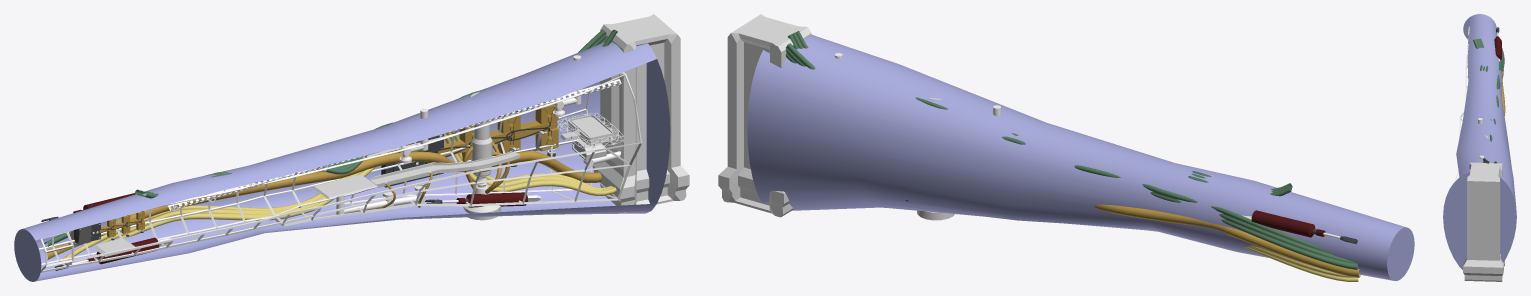
File: MSH_LVLArm_WBX.fbx
3 renders of one model, left to right at view 1: azimuth 30°, elevation 25°; view 2: azimuth 150°, elevation 25°; view 3: azimuth 270°, elevation 25°, orthographic. The views are drawn at different scales.
Parts seen in each view (by area): view 1: MSH_ArmSkinBG_WBX, MSH_ArmFrameBG_WBX, Elevator Support, Curve_Cable, Curve_Cable.001, MSH_SpineThingBG_WBX.001, MSH_Walkway, MSH_Pump, MSH_Hanger Strap_WBX.002, MSH_HingePiston_WBX.003|MSH_HingePiston_WBX|Dupli|, MSH_breadboard_WBX.001, Grate (+9 smaller); view 2: MSH_ArmSkinBG_WBX, Elevator Support, Curve_Cable.002, Curve_Cable.001, MSH_HingePiston_WBX.001|MSH_HingePiston_WBX|Dupli|, Curve_Cable, Curve_Cable.010; view 3: MSH_ArmSkinBG_WBX, Elevator Support, MSH_ArmFrameBG_WBX, Curve_Cable.002, MSH_HingePiston_WBX.001|MSH_HingePiston_WBX|Dupli|, Curve_Cable.010, Curve_Cable.001.
Part boxes in pixels (<box>): MSH_ArmSkinBG_WBX: <box>14,42,670,281</box>; MSH_ArmFrameBG_WBX: <box>39,72,641,272</box>; Elevator Support: <box>592,14,689,212</box>; Curve_Cable: <box>58,131,616,265</box>; Curve_Cable.001: <box>44,151,601,259</box>; MSH_SpineThingBG_WBX.001: <box>438,100,558,160</box>; MSH_Walkway: <box>370,150,520,187</box>; MSH_Pump: <box>463,92,500,220</box>; MSH_Hanger Strap_WBX.002: <box>168,79,622,210</box>; MSH_HingePiston_WBX.003|MSH_HingePiston_WBX|Dupli|: <box>425,192,541,207</box>; MSH_breadboard_WBX.001: <box>312,174,377,198</box>; Grate: <box>557,113,623,149</box>; MSH_ArmSkinBG_WBX: <box>747,35,1414,281</box>; Elevator Support: <box>718,14,811,217</box>; Curve_Cable.002: <box>785,43,1358,269</box>; Curve_Cable.001: <box>1094,204,1360,277</box>; MSH_HingePiston_WBX.001|MSH_HingePiston_WBX|Dupli|: <box>1242,210,1357,244</box>; Curve_Cable: <box>1243,245,1358,281</box>; Curve_Cable.010: <box>787,31,1292,196</box>; MSH_ArmSkinBG_WBX: <box>1443,14,1516,269</box>; Elevator Support: <box>1463,162,1504,281</box>; MSH_ArmFrameBG_WBX: <box>1454,26,1469,182</box>; Curve_Cable.002: <box>1493,48,1504,163</box>; MSH_HingePiston_WBX.001|MSH_HingePiston_WBX|Dupli|: <box>1494,27,1501,61</box>; Curve_Cable.010: <box>1473,38,1492,163</box>; Curve_Cable.001: <box>1501,69,1505,115</box>.
Bounding box in the file's own units: 59001 × 15909 × 9362.
